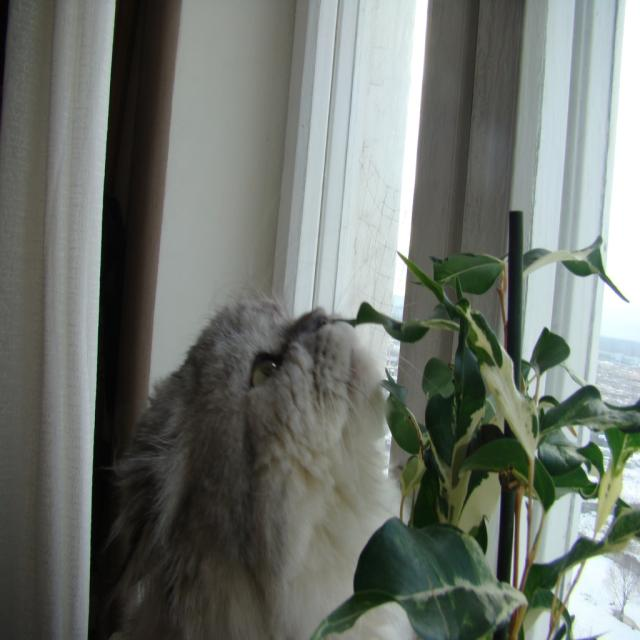Cat: (101, 272, 422, 638)
